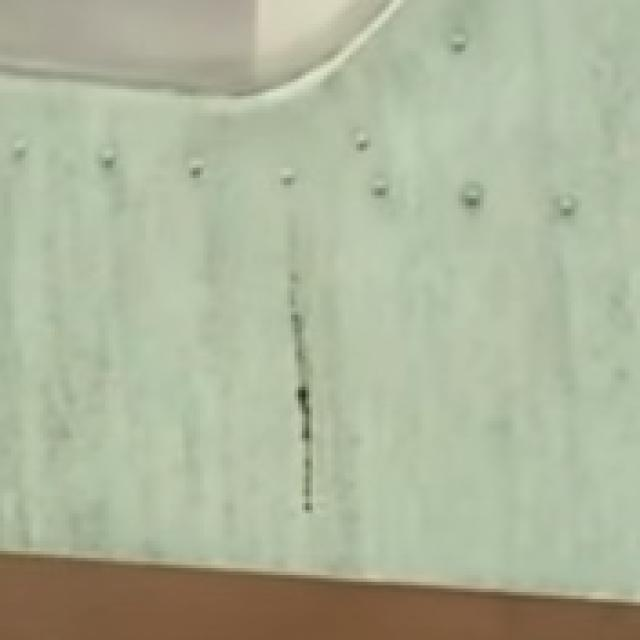crack: (267, 261, 347, 614)
